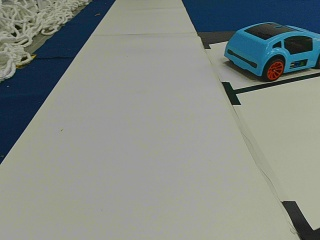car: (223, 21, 319, 81)
